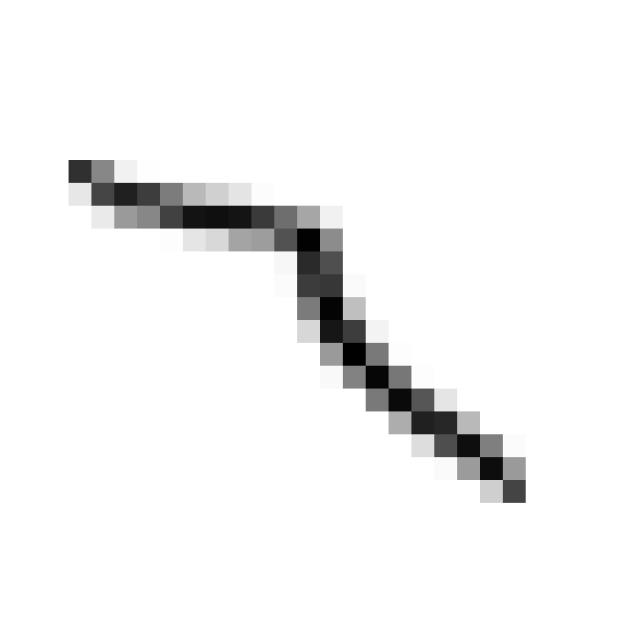6 -six-: (48, 140, 545, 520)
